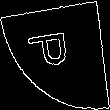P_E: (30, 33, 80, 77)
